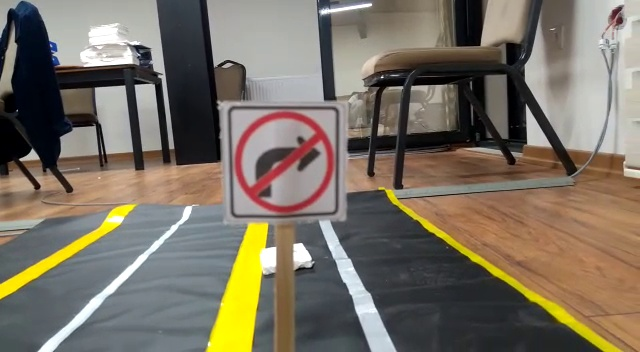saga_donulmez: (232, 105, 342, 212)
